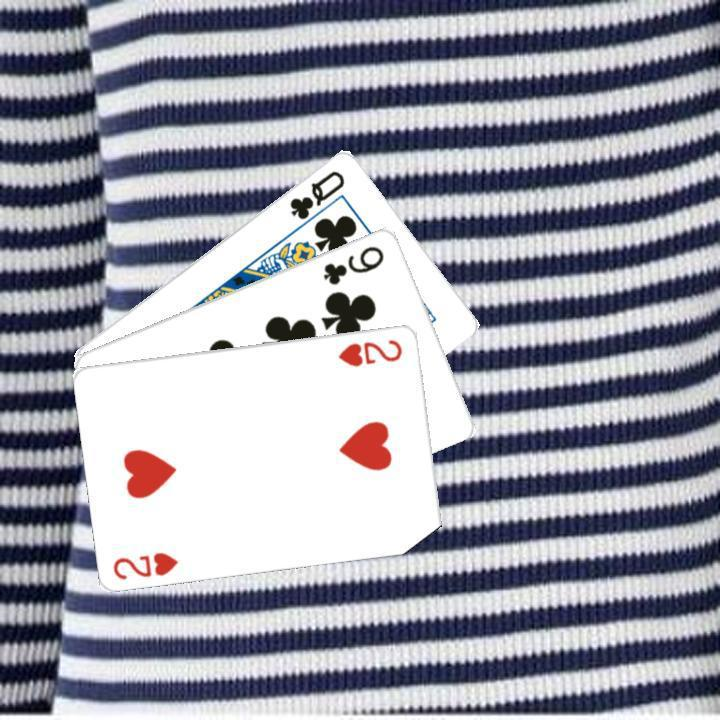2: (109, 547, 181, 581), (334, 334, 405, 368)
9: (318, 241, 386, 287)
Q: (285, 165, 347, 222)
